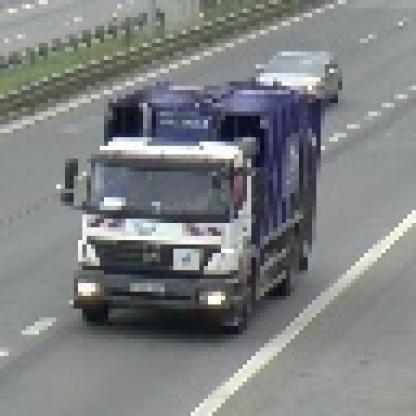truck: (57, 79, 322, 319)
